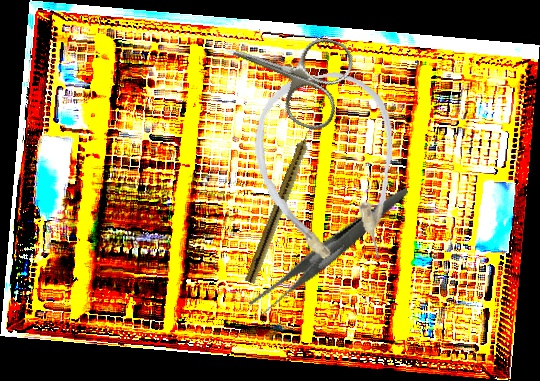Cannula: (243, 63, 416, 278)
Dressing Forceps: (230, 188, 431, 318)
Handpiece: (244, 122, 319, 286)
Iris Scissors: (209, 5, 360, 136)
